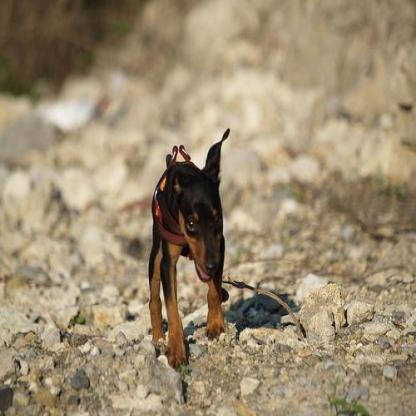miniature_pinscher: (148, 128, 230, 370)
